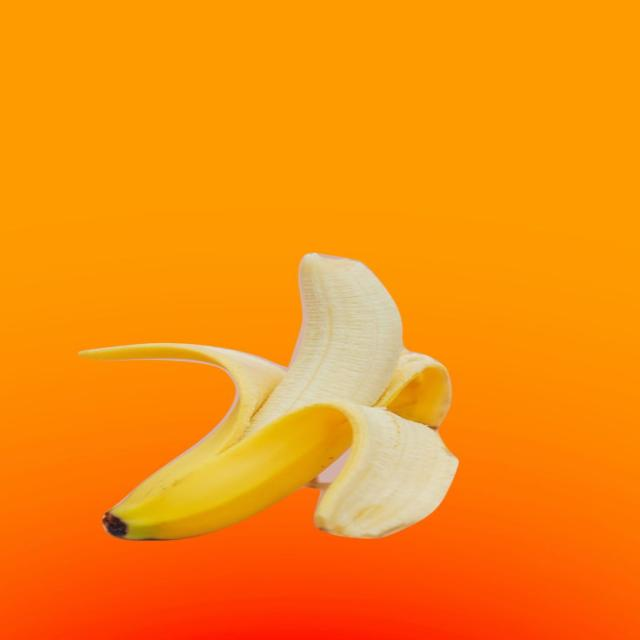banana: (81, 254, 456, 539), (105, 406, 351, 540), (250, 254, 402, 431), (314, 406, 457, 538), (376, 350, 451, 429)
